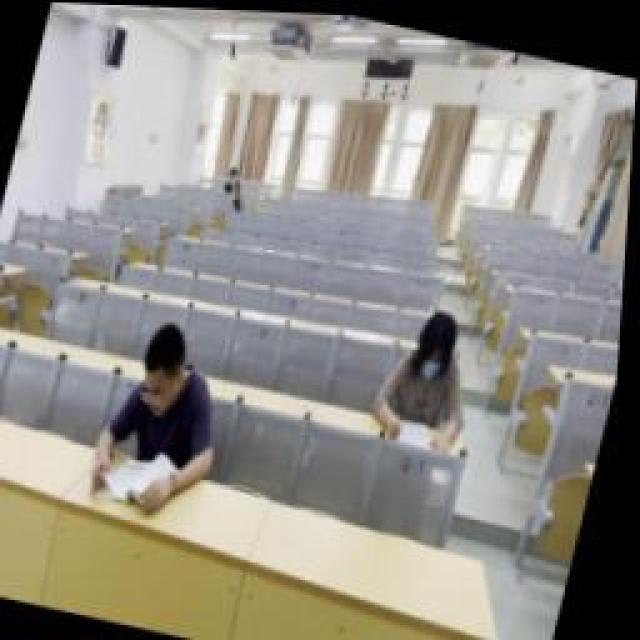study: (92, 312, 248, 522), (378, 298, 490, 442), (222, 163, 248, 195)
